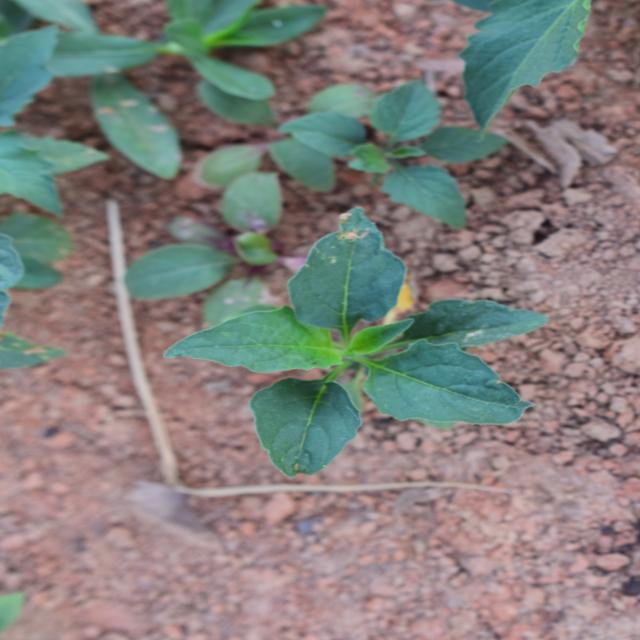Black_nightshade: (167, 198, 427, 547)
